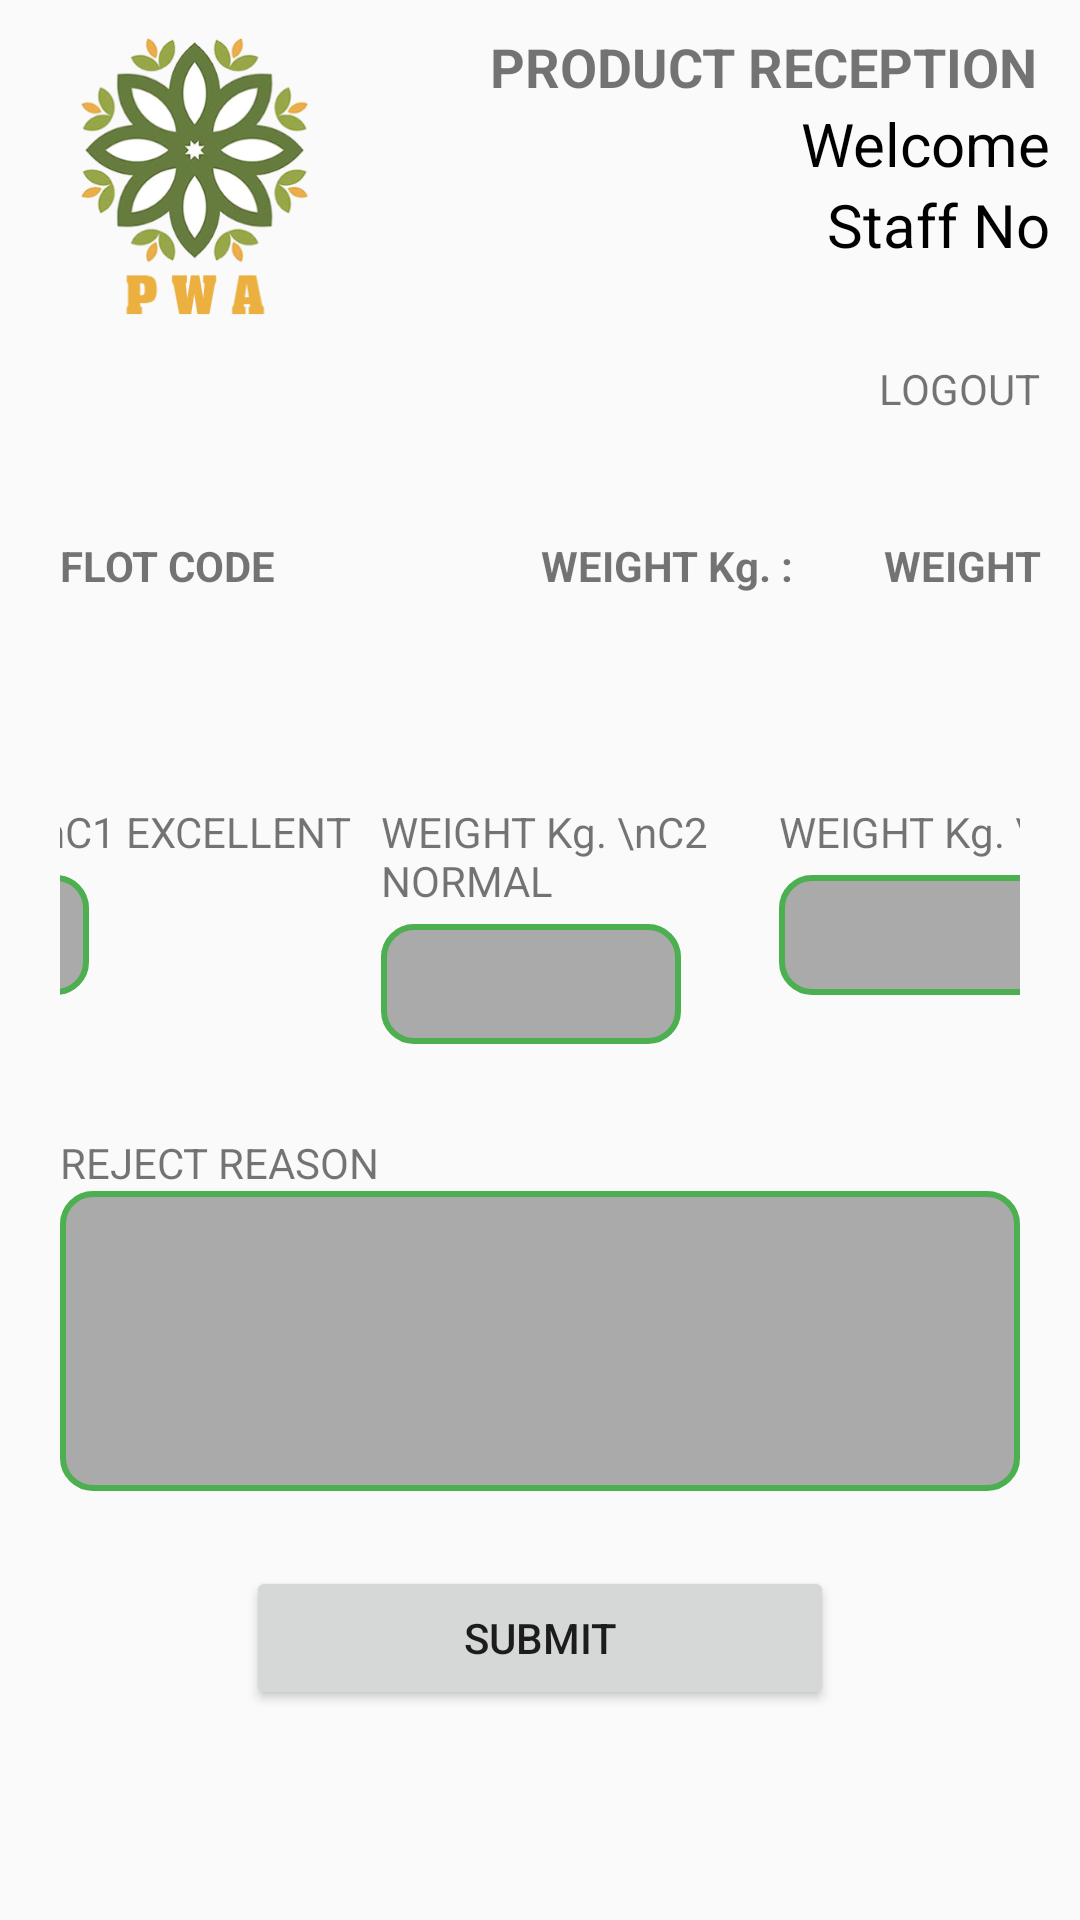

Icons on this 1080x1920 Android screen, each with its box as (x1, y1, x2, y2):
miopwa: (81, 38, 308, 314)
